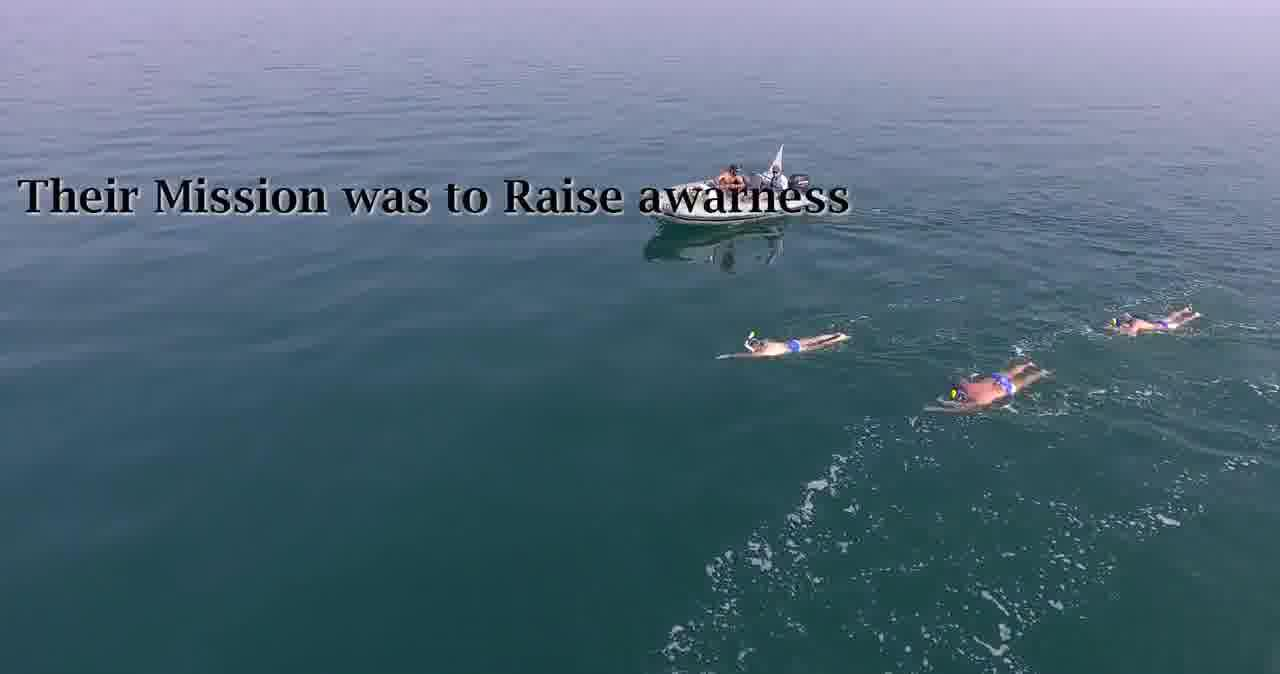human: (732, 318, 816, 363), (940, 370, 1011, 421), (1107, 311, 1188, 338)
